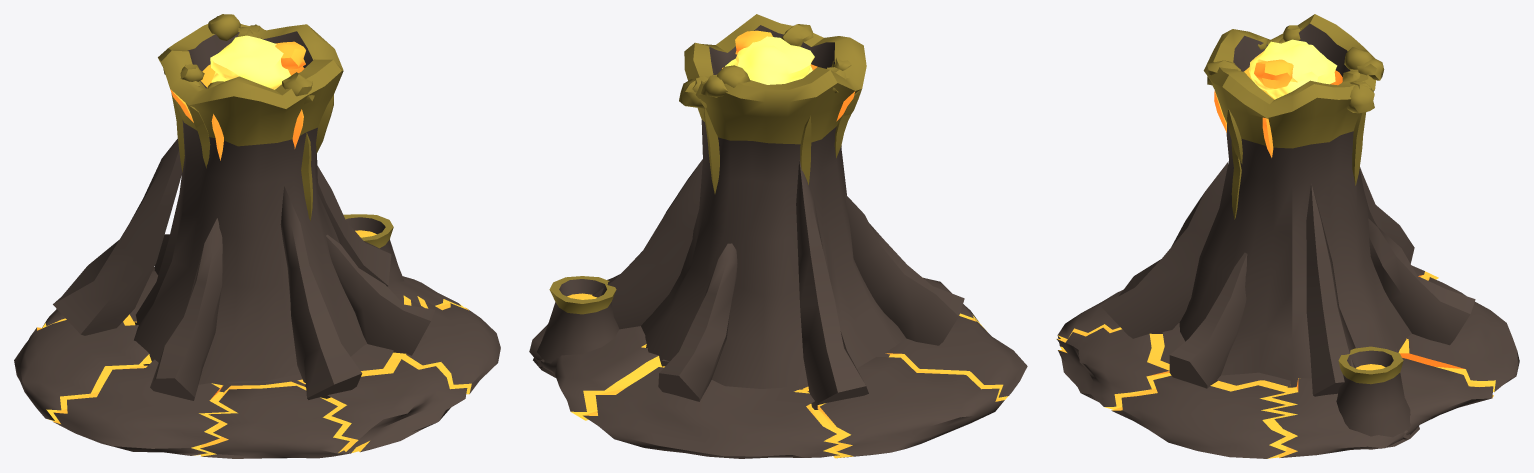
Rendered from vent_stack_a.glb.
3 views of the same model, side by side, from view 1: azimuth 30°, elevation 25°; view 2: azimuth 150°, elevation 25°; view 3: azimuth 270°, elevation 25° (orthographic). The views are drawn at different scales.
Parts seen in each view (by area): view 1: vent_stack_a; view 2: vent_stack_a; view 3: vent_stack_a.
Boxes of the visible parts, x1,y1,x2,y2 form: vent_stack_a: (14,14,500,458); vent_stack_a: (529,14,1027,458); vent_stack_a: (1056,14,1519,458).
Bounding box in the file's own units: 7.36 × 5.32 × 7.07.
